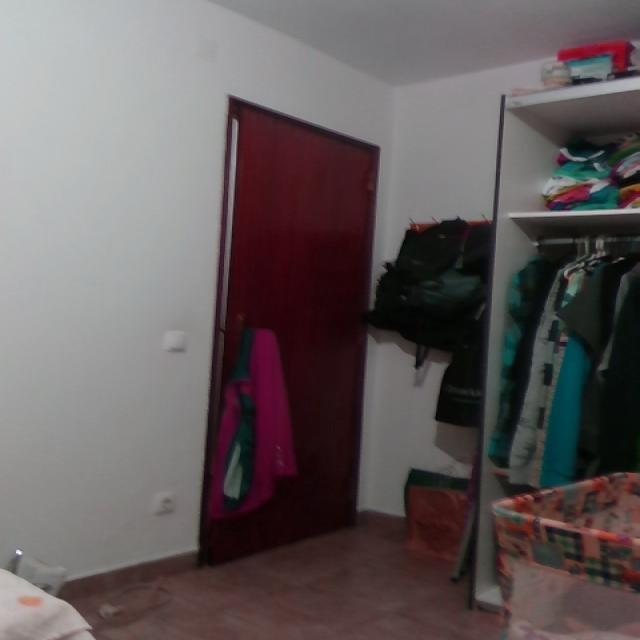door: (196, 93, 380, 566)
